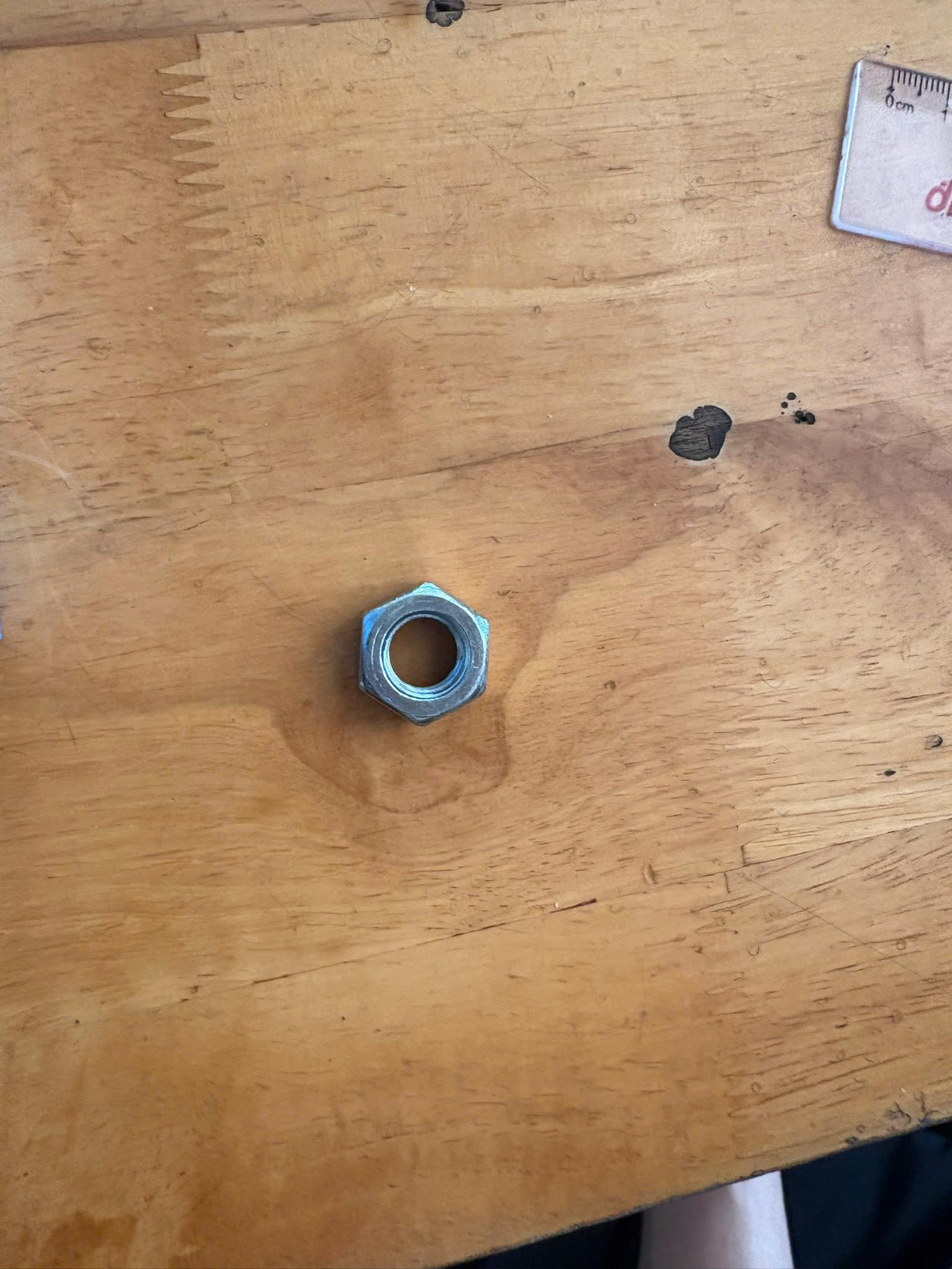nut: (317, 568, 516, 740)
